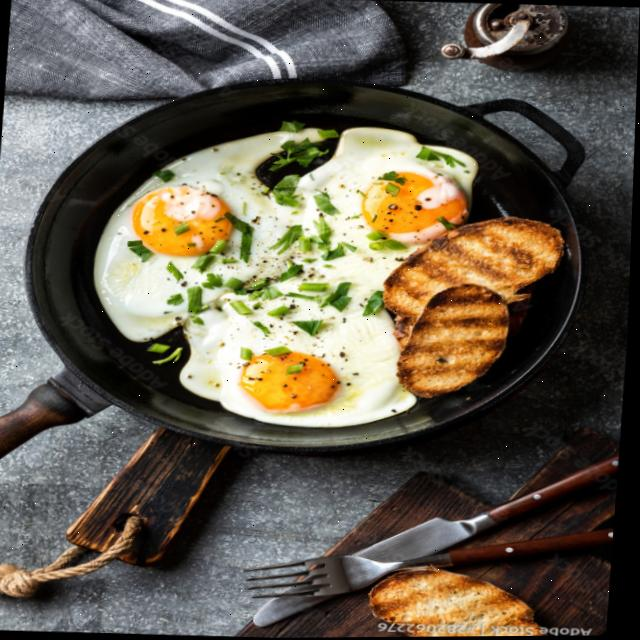Egg: (95, 127, 478, 427)
